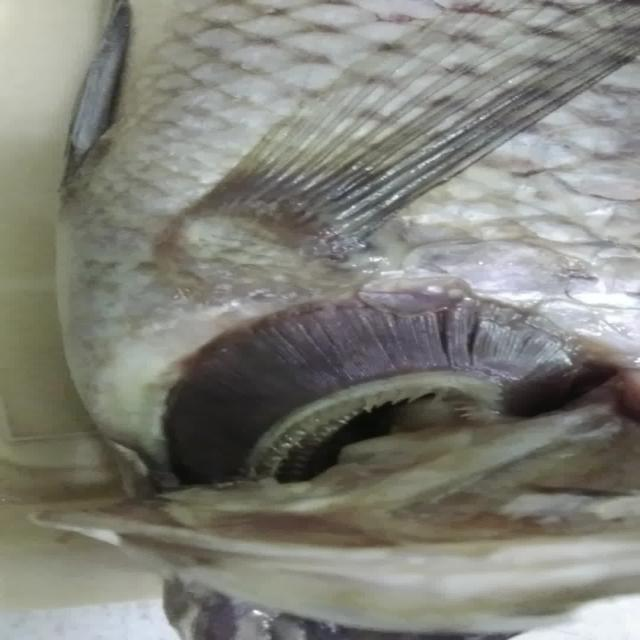Non-Fresh: (168, 292, 594, 498)
